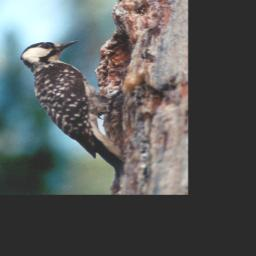Woodpecker: (7, 37, 131, 179)
